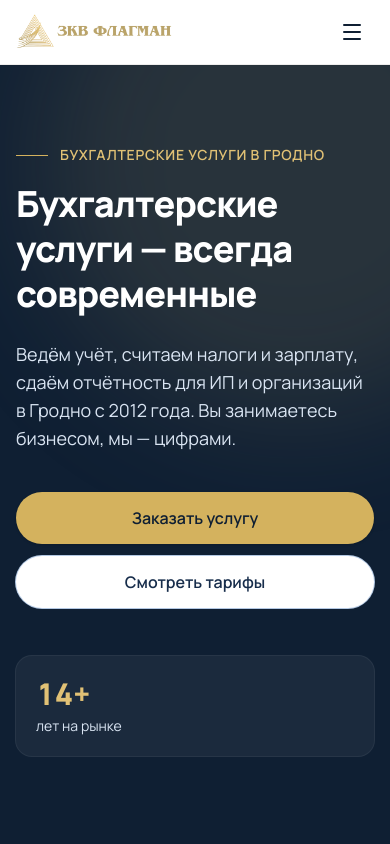
Scenario: App shell › exposes the mobile menu as a nav landmark when opened
Click the button named "Открыть меню" at (352, 32), box [330,10,374,54]
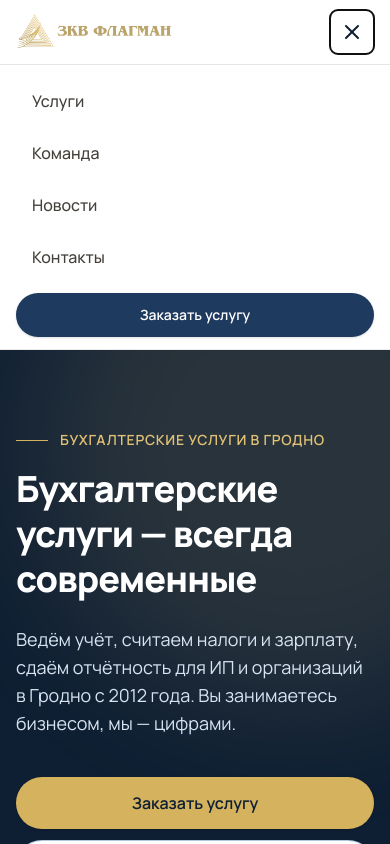
Now the navigation bar named "Мобильное меню" is shown, box [32,90,105,268]
Now the button named "Открыть меню" is expanded, box [330,10,374,54]
